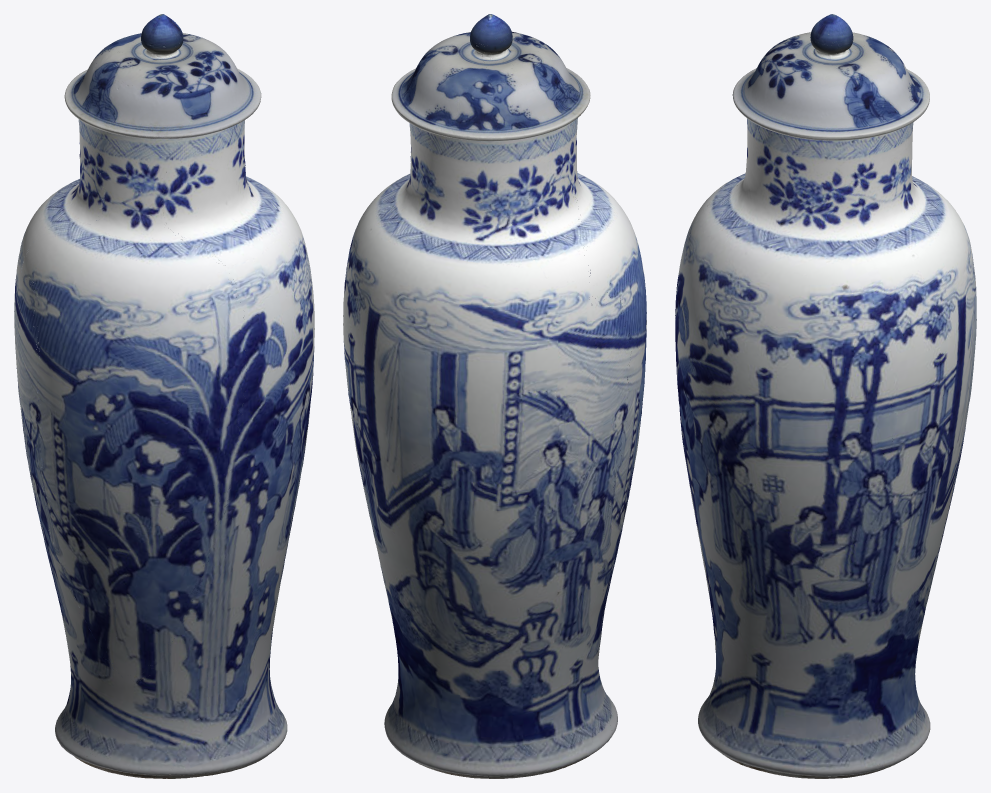
The model's file is vase2.gltf.
The picture shows the model from 3 angles, left to right: view 1: azimuth 30°, elevation 25°; view 2: azimuth 150°, elevation 25°; view 3: azimuth 270°, elevation 25°; orthographic projection.
Parts seen in each view (by area): view 1: f1980_192-smooth-textured-150k-unwrapped, f1980_192-lid-smooth-textured-150k-unwrapped; view 2: f1980_192-smooth-textured-150k-unwrapped, f1980_192-lid-smooth-textured-150k-unwrapped; view 3: f1980_192-smooth-textured-150k-unwrapped, f1980_192-lid-smooth-textured-150k-unwrapped.
Boxes of the visible parts, bbox=[...] form: f1980_192-smooth-textured-150k-unwrapped: bbox=[14, 119, 314, 778]; f1980_192-lid-smooth-textured-150k-unwrapped: bbox=[64, 14, 261, 138]; f1980_192-smooth-textured-150k-unwrapped: bbox=[343, 118, 646, 778]; f1980_192-lid-smooth-textured-150k-unwrapped: bbox=[391, 14, 590, 141]; f1980_192-smooth-textured-150k-unwrapped: bbox=[675, 118, 976, 778]; f1980_192-lid-smooth-textured-150k-unwrapped: bbox=[732, 14, 929, 140].
Size of the model in its own units: 0.1721 by 0.4559 by 0.1723.
Materials: 2 (2 with a texture image).
